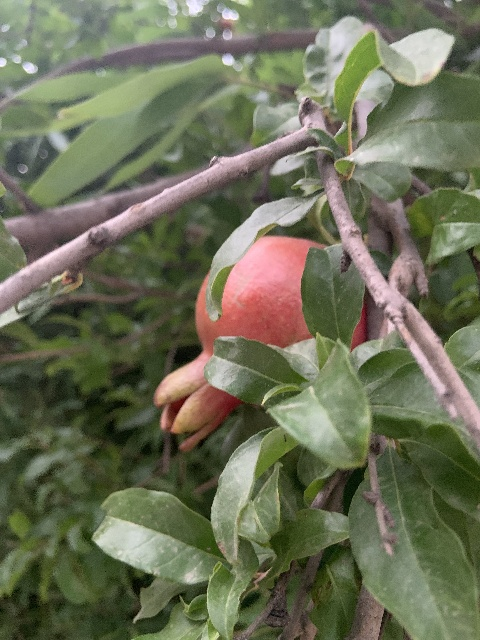ripe: (151, 234, 362, 451)
